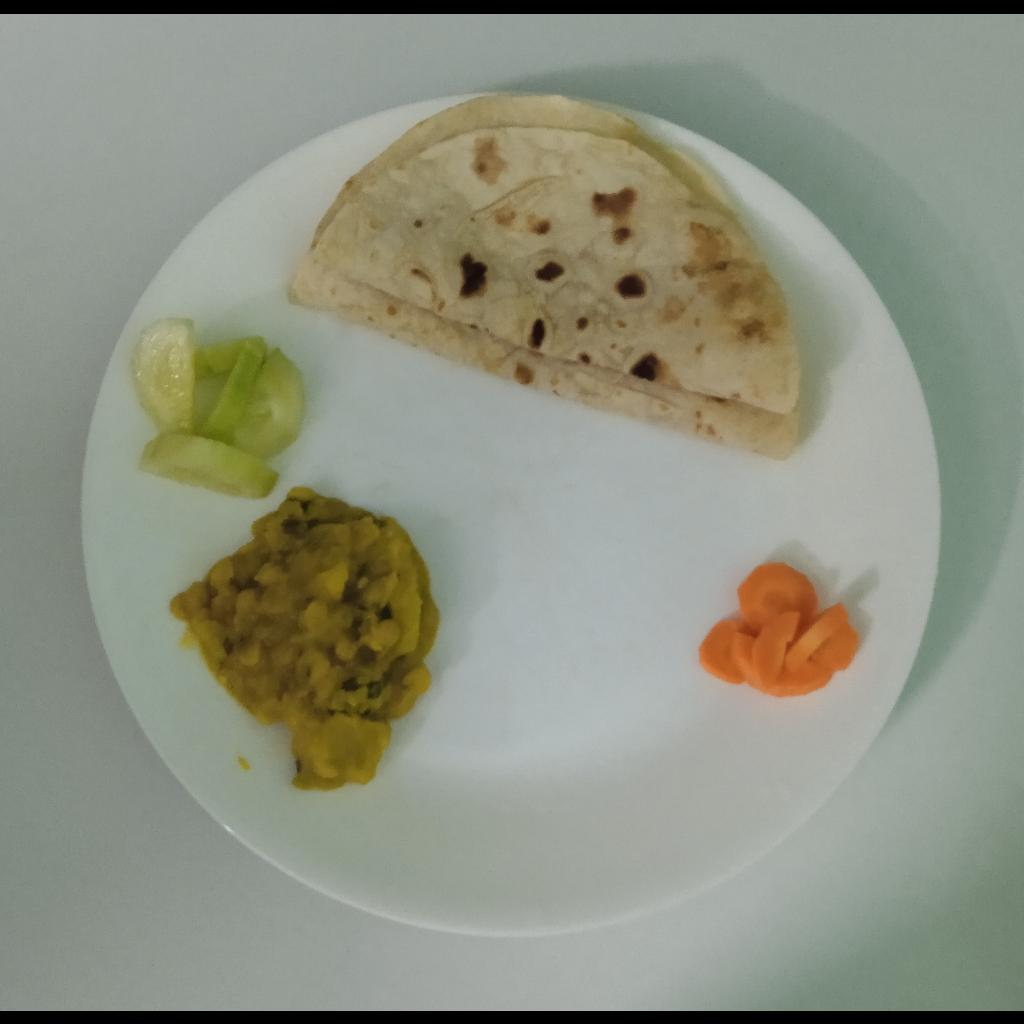carrot: (701, 562, 860, 692)
cucumber: (131, 320, 307, 501)
ruti: (284, 86, 801, 463)
vegetable: (173, 490, 446, 791)
